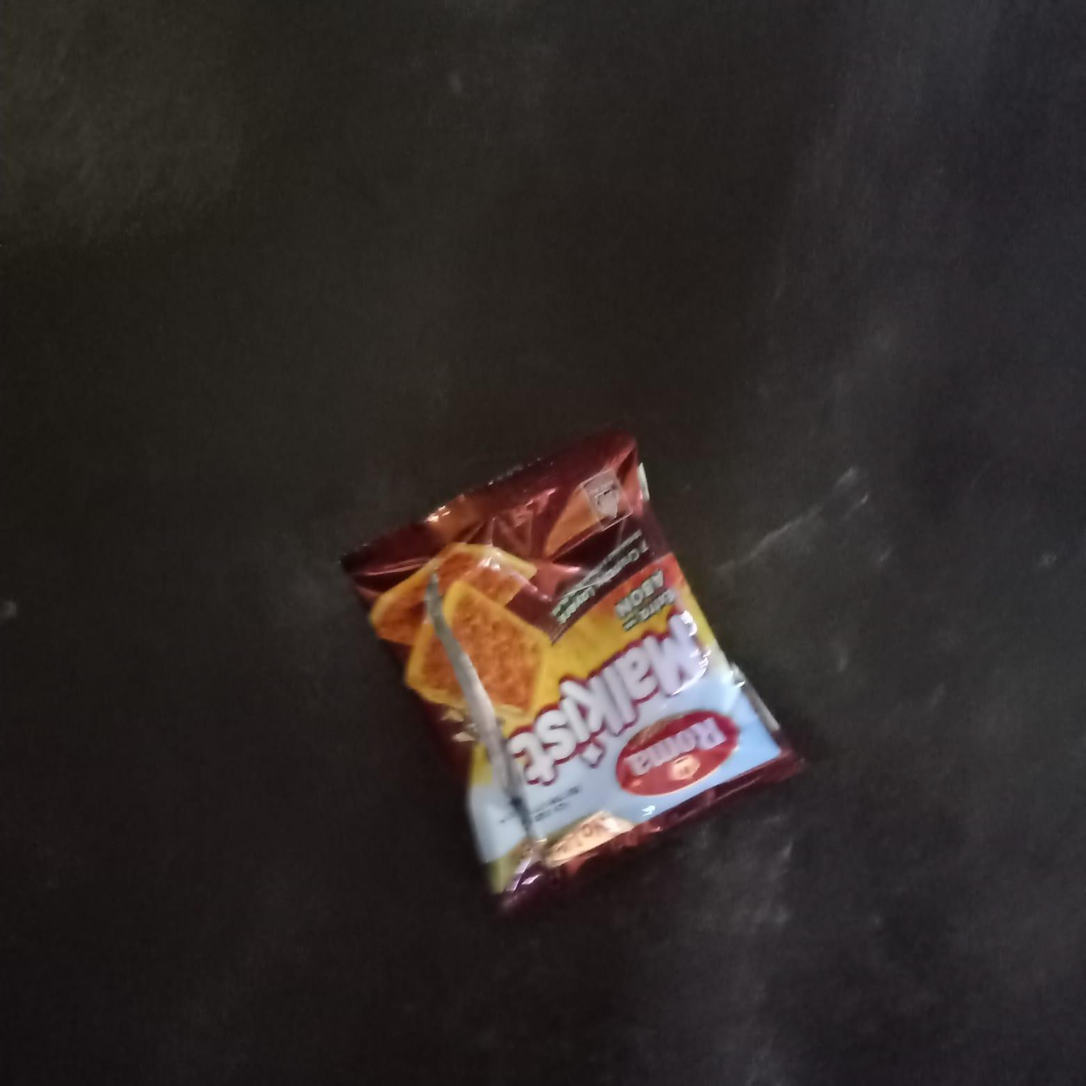Plastik: (335, 422, 809, 913)
